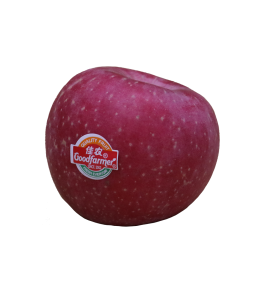apple: (45, 65, 220, 227)
